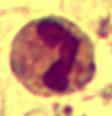monocyte: (9, 14, 100, 95)
